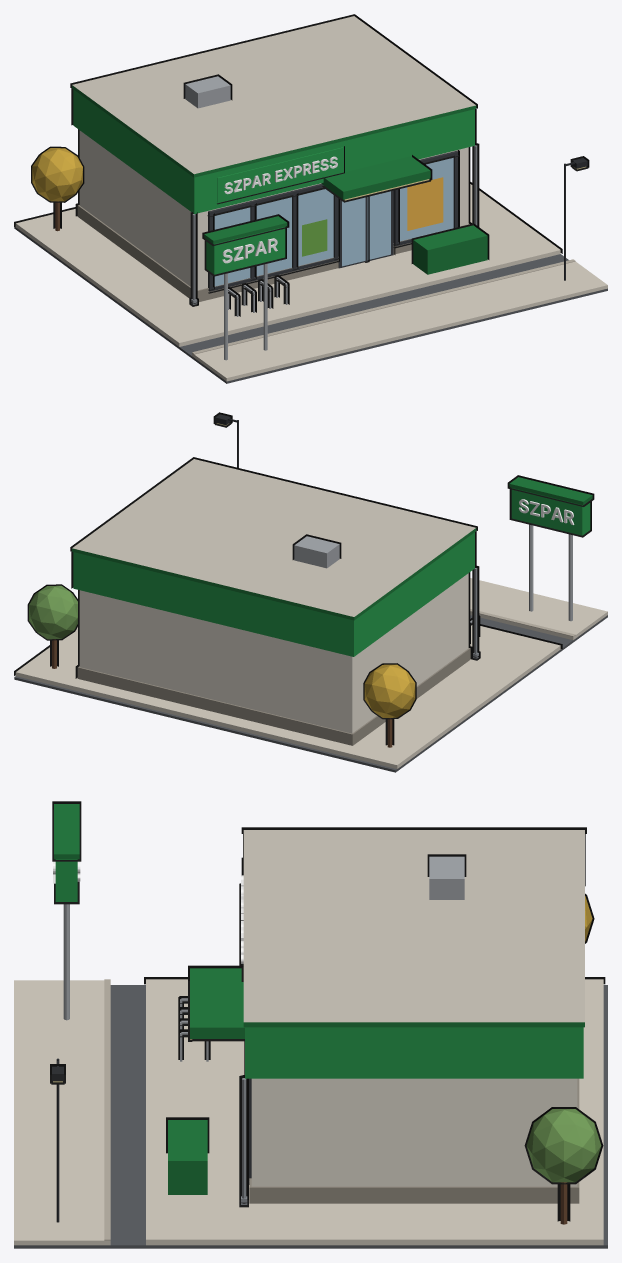
File: Market_szpar_express_1_1.fbx
The picture shows the model from 3 angles, top to bottom: view 1: azimuth 30°, elevation 25°; view 2: azimuth 150°, elevation 25°; view 3: azimuth 270°, elevation 25°; orthographic projection. The views are drawn at different scales.
Visible parts, largest first — view 1: Market_szpar_express_1_1; view 2: Market_szpar_express_1_1; view 3: Market_szpar_express_1_1.
Part boxes in pixels (x1,y1,x2,y2): Market_szpar_express_1_1: (14, 14, 607, 383); Market_szpar_express_1_1: (14, 412, 607, 772); Market_szpar_express_1_1: (14, 801, 607, 1248).
Bounding box in the file's own units: 14.08 × 5.39 × 13.5.
